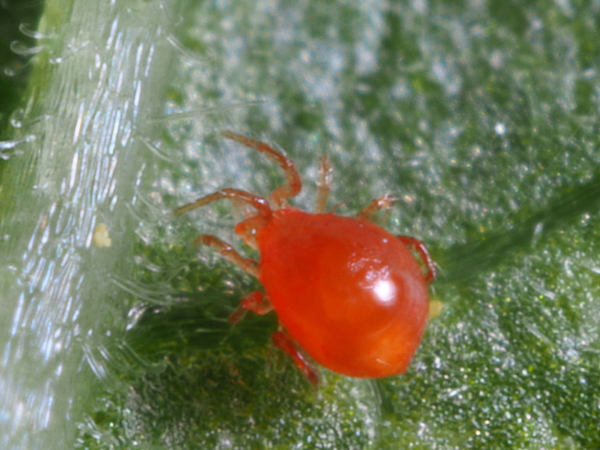Mites: (193, 113, 433, 406)
